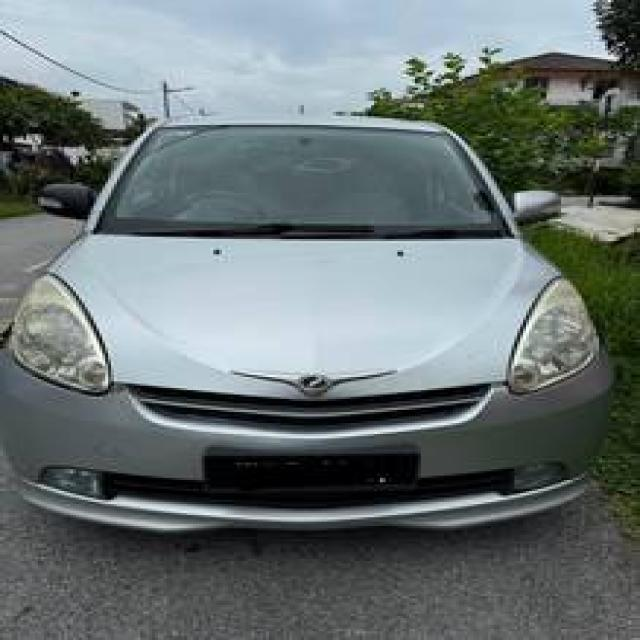PeroduaMyvi: (0, 112, 617, 535)
